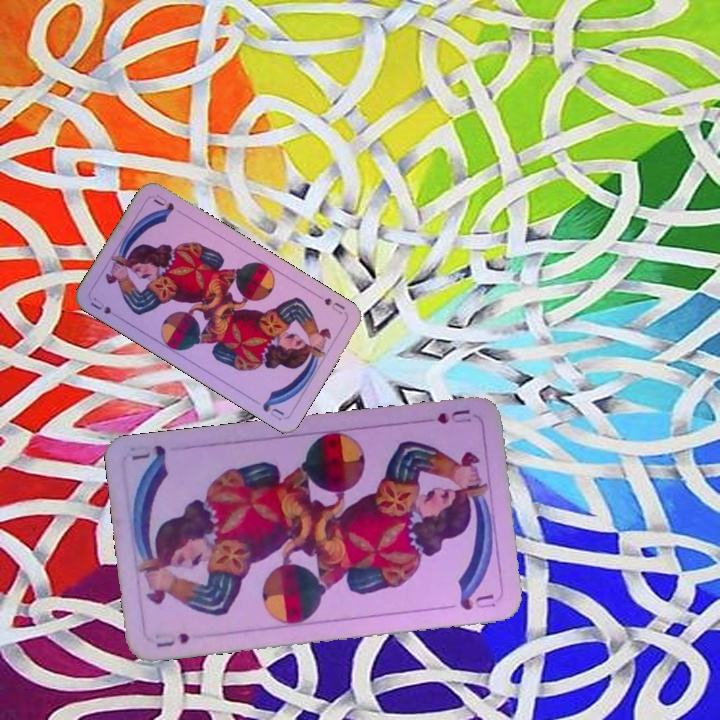SU: (417, 405, 473, 426), (86, 293, 124, 322), (312, 290, 348, 317), (152, 629, 192, 650)
